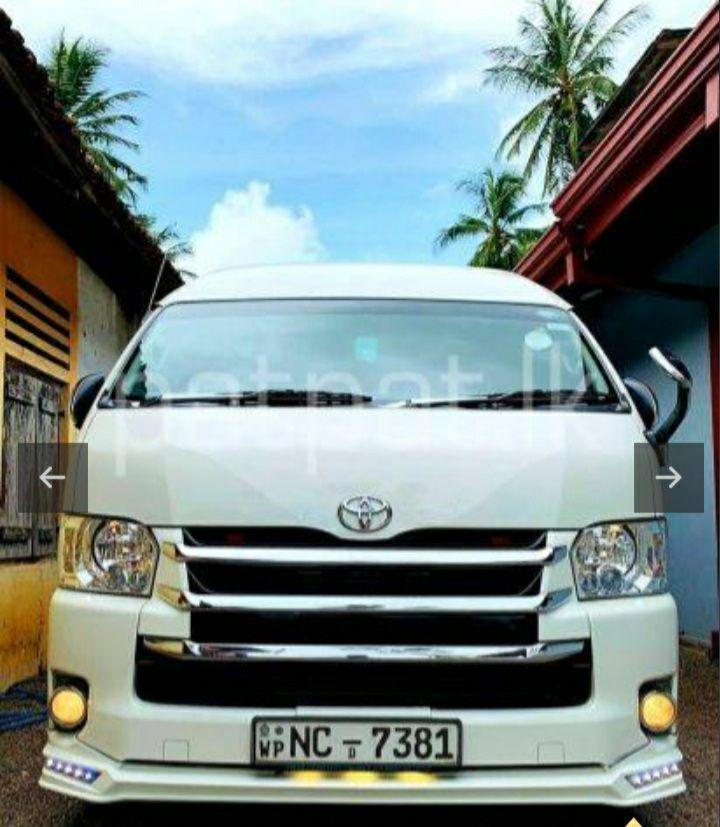license-plate: (254, 718, 458, 765)
